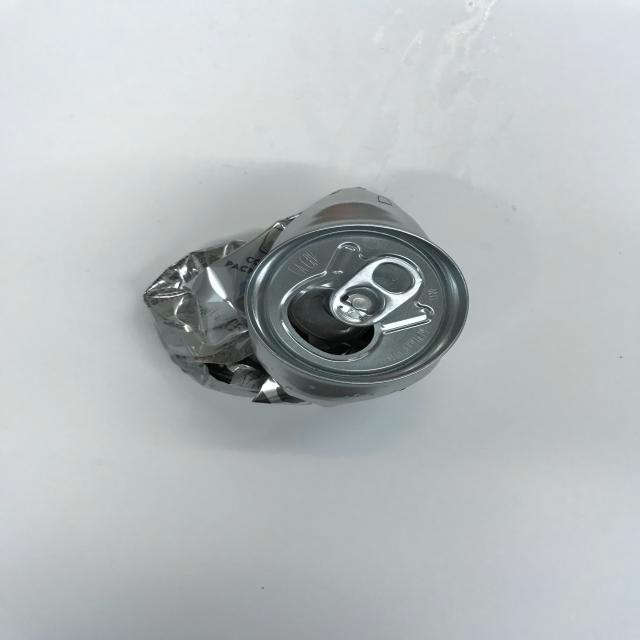metal: (126, 180, 524, 418)
